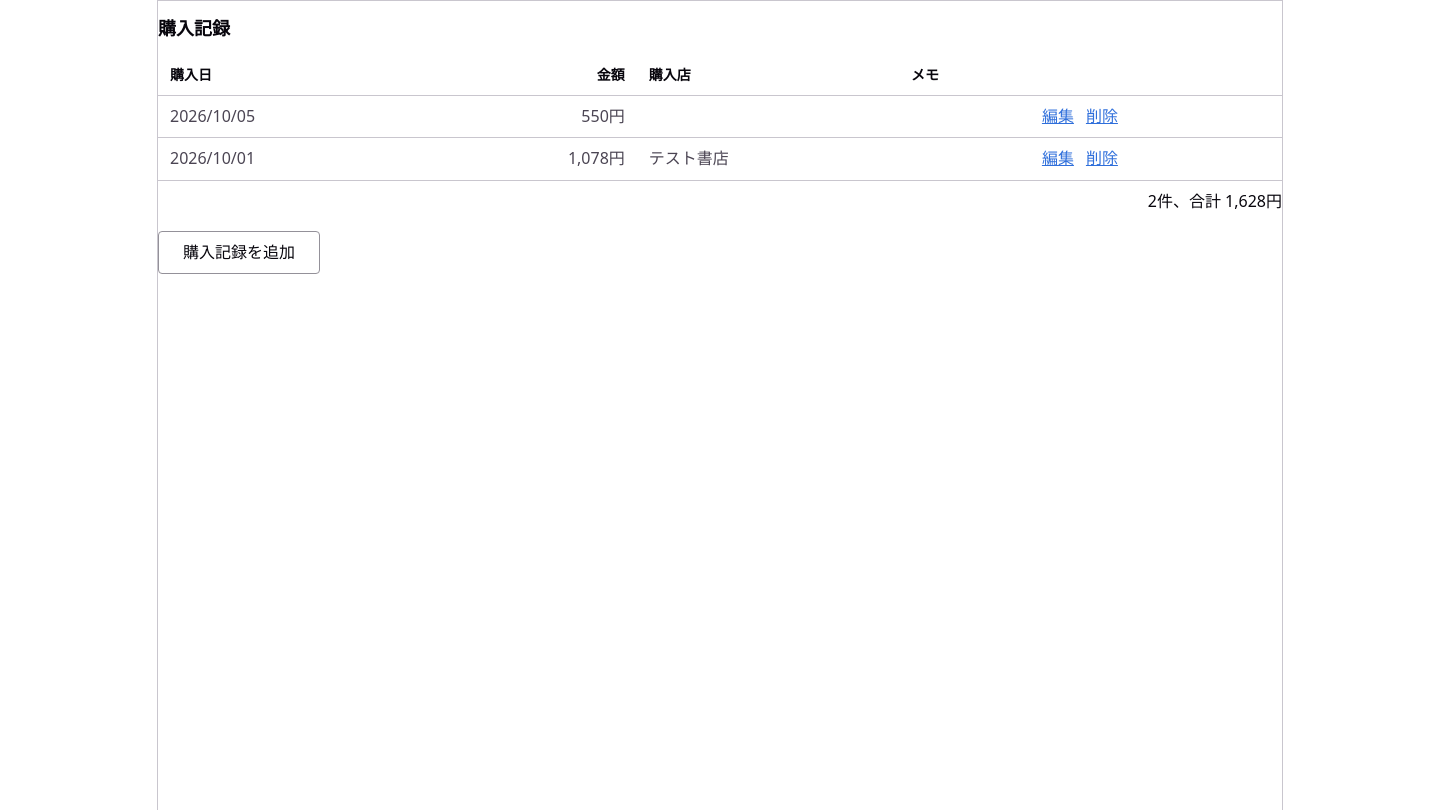
PurchasesSection › 編集 › 別の行の「編集」に切り替えたら、その購入記録の値を入れ直す
The image size is (1440, 810).
Click the button with aria-label "2026/10/01 の購入記録を編集": {"x": 1058, "y": 159} [1042,146,1074,172]
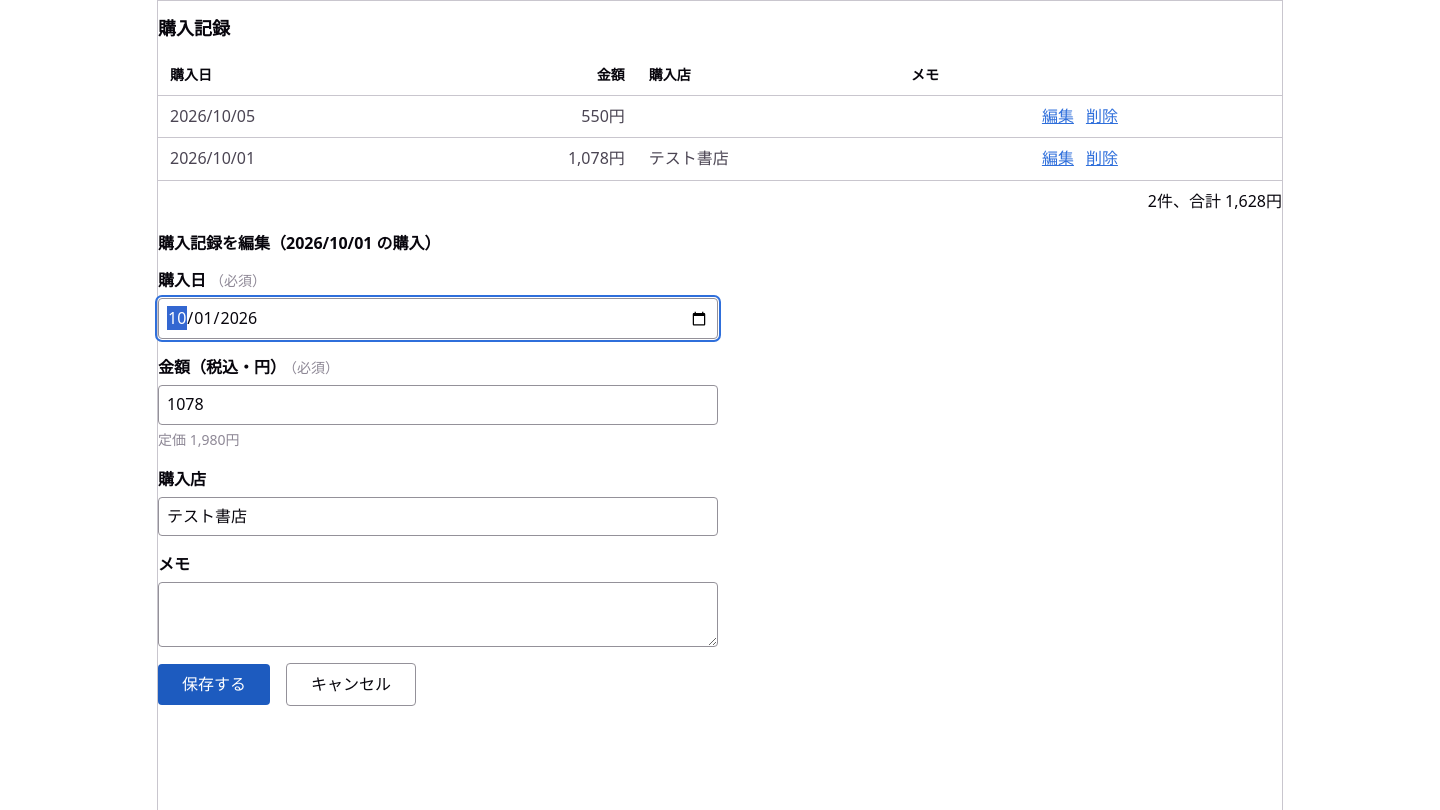
In the field labelled "購入店": {"x": 438, "y": 516} [158,496,718,536], type "（入力中）"
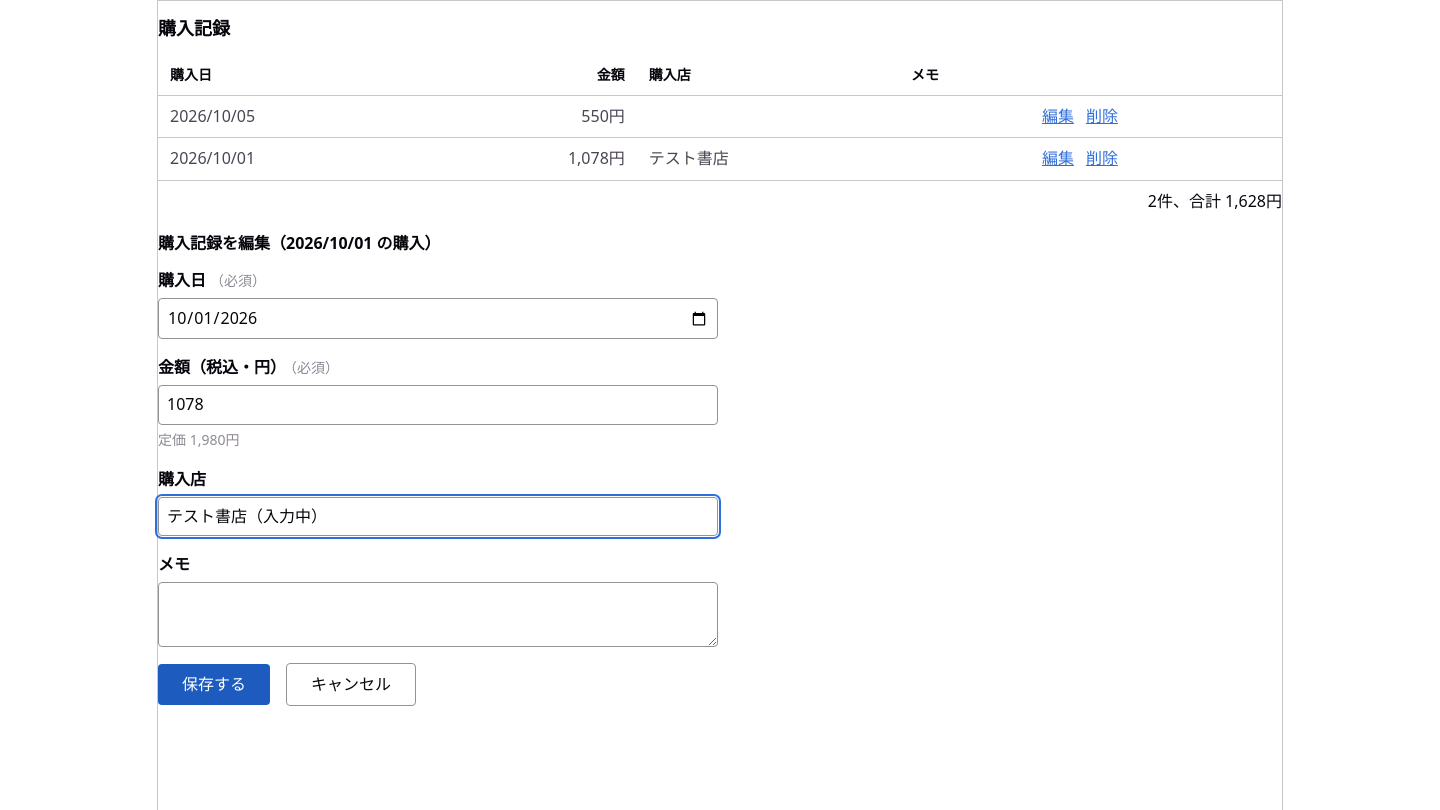
Click the button with aria-label "2026/10/05 の購入記録を編集": {"x": 1058, "y": 117} [1042,104,1074,129]
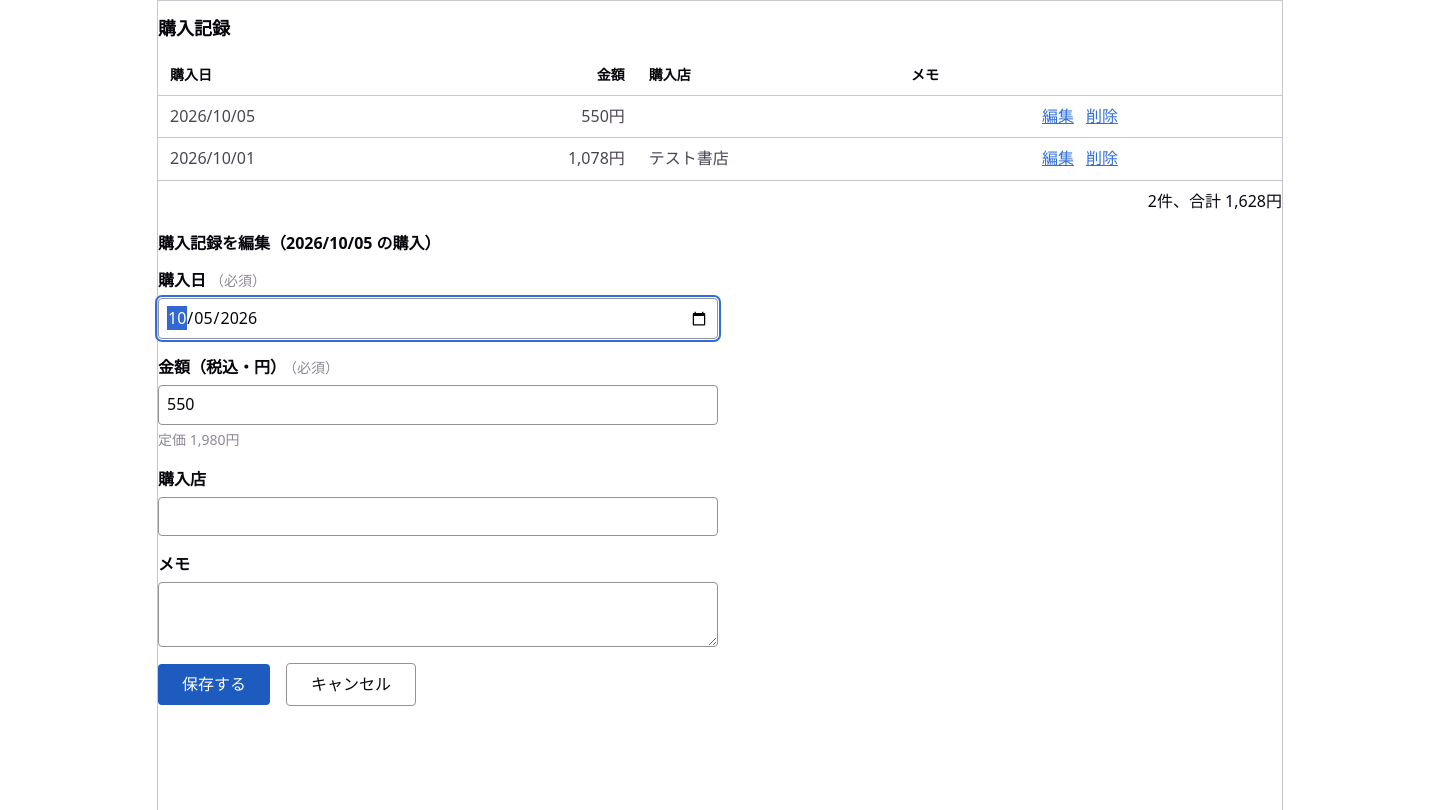
Result: the date field labelled "購入日（必須）" holds "2026-10-05" at [158,298,718,339]
Result: the field labelled "購入店" is empty at [158,496,718,536]
